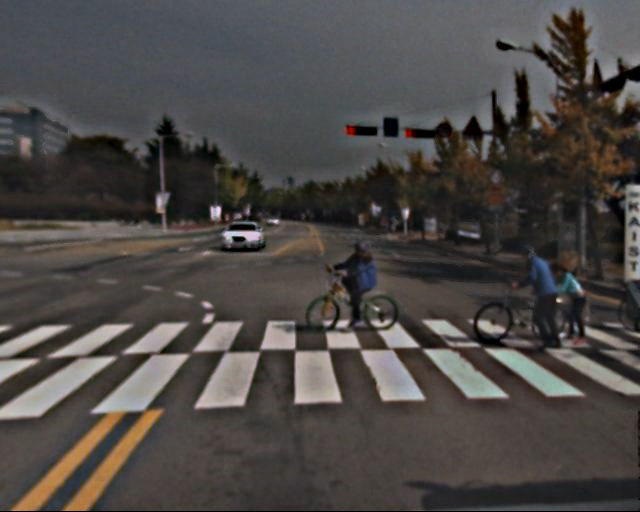person: (519, 246, 562, 352), (341, 241, 379, 333), (555, 263, 589, 346)
